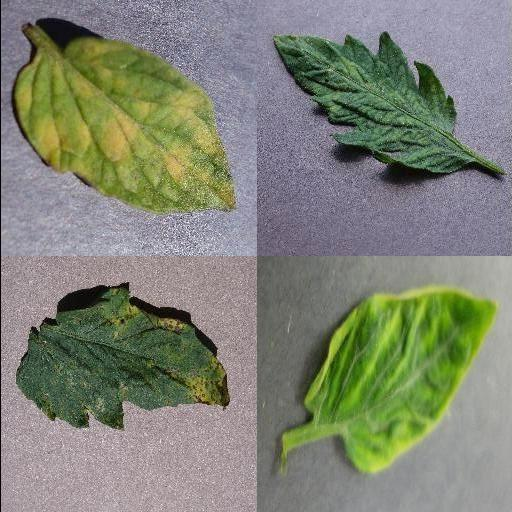Leaf Mold: (13, 39, 237, 213)
Mosaic Virus: (272, 32, 475, 176)
Septoria: (14, 287, 228, 431)
Yellow Leaf Curl Virus: (303, 287, 499, 475)
